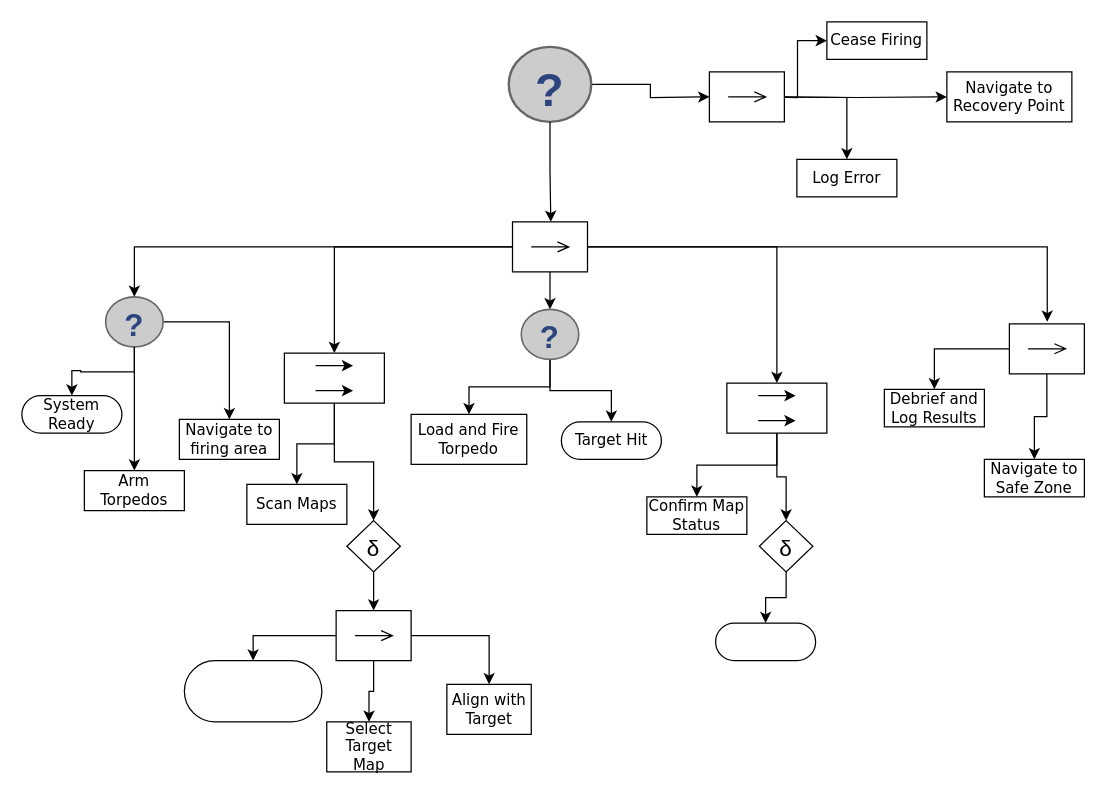
This 1106x795 diagram has some shape labels left out. Each missing label, with the centre of its shape:
Highest value target avaliable: (252,690)
More Targets Avaliable: (765,641)
